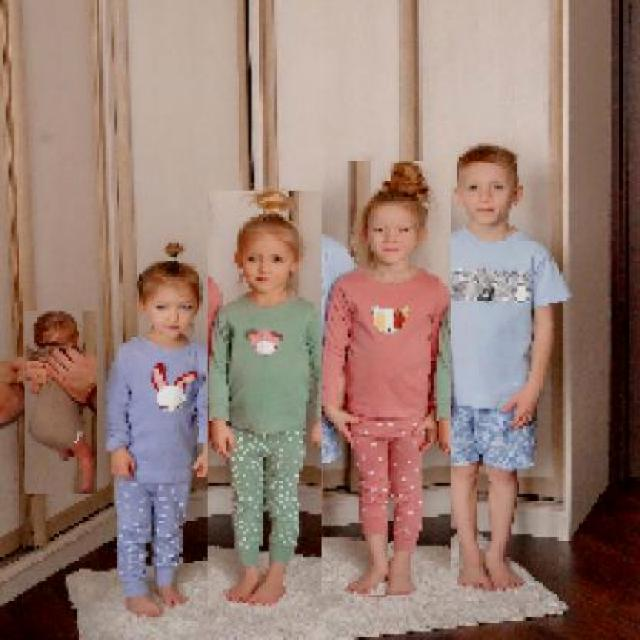child: (410, 142, 573, 598), (320, 160, 451, 597), (206, 191, 337, 609), (105, 239, 218, 615), (23, 311, 97, 495)
